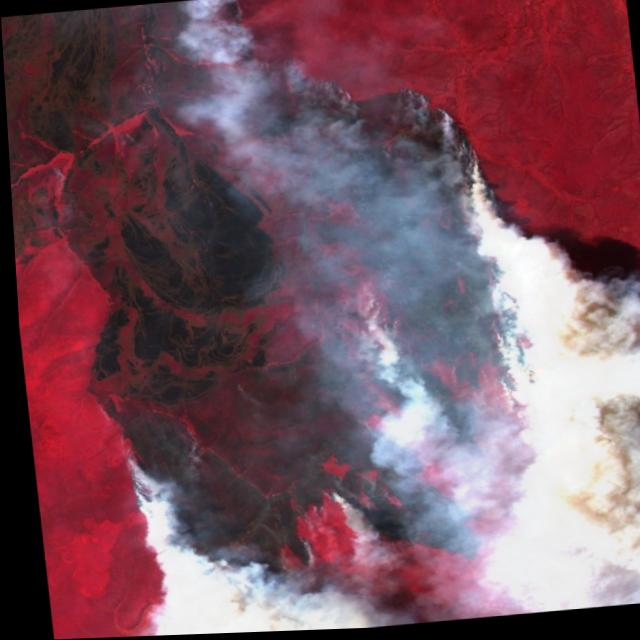fire: (57, 0, 600, 638)
